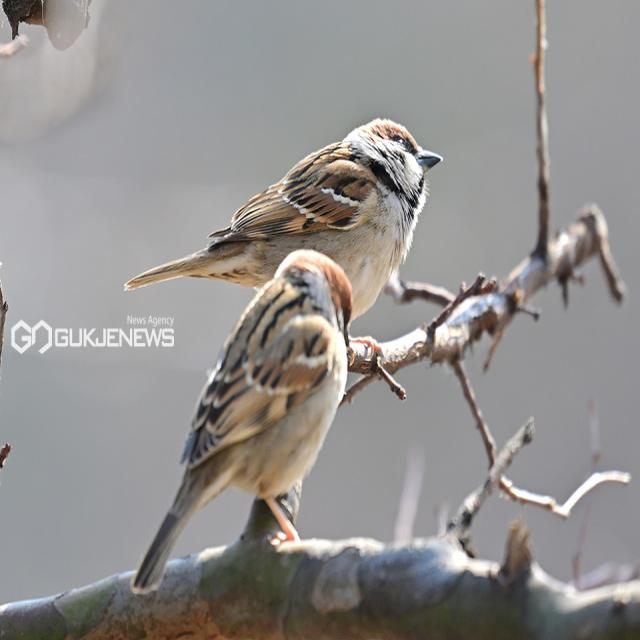bird: (128, 254, 358, 602), (123, 116, 444, 307)
